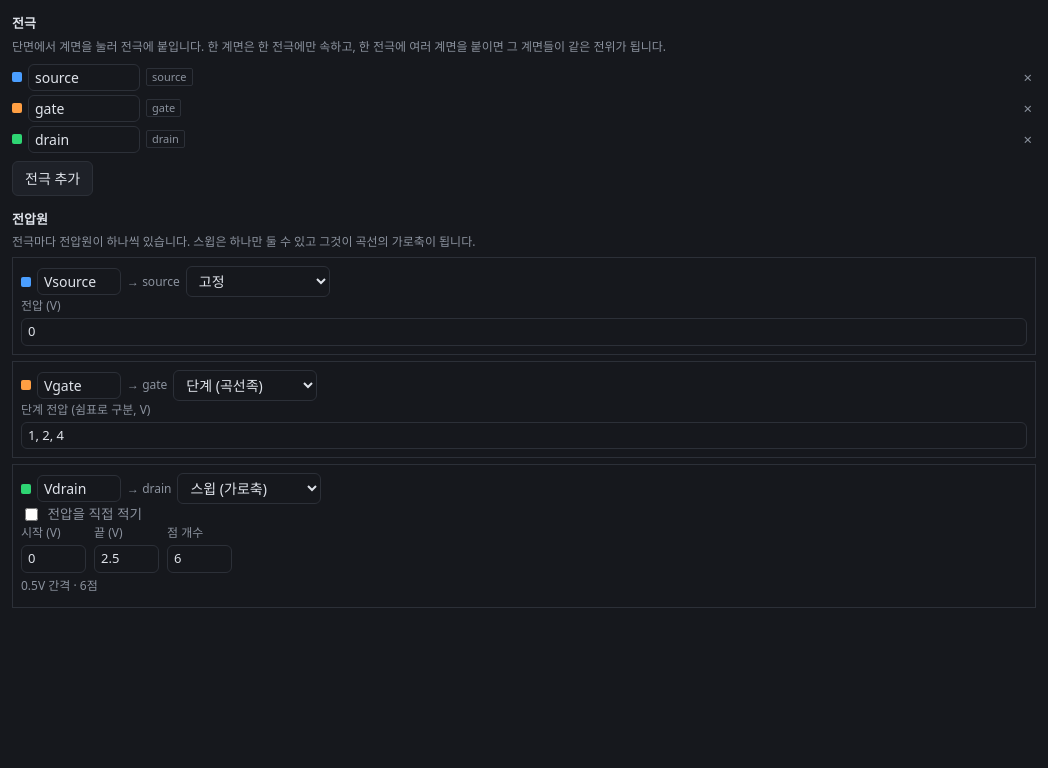
it: 전극 이름 고치기 › 이미 있는 이름으로는 바뀌지 않는다
The image size is (1048, 768).
Replace the text in the field named "전극 1 이름" with "gate" at [84, 77], box [28, 64, 140, 90]
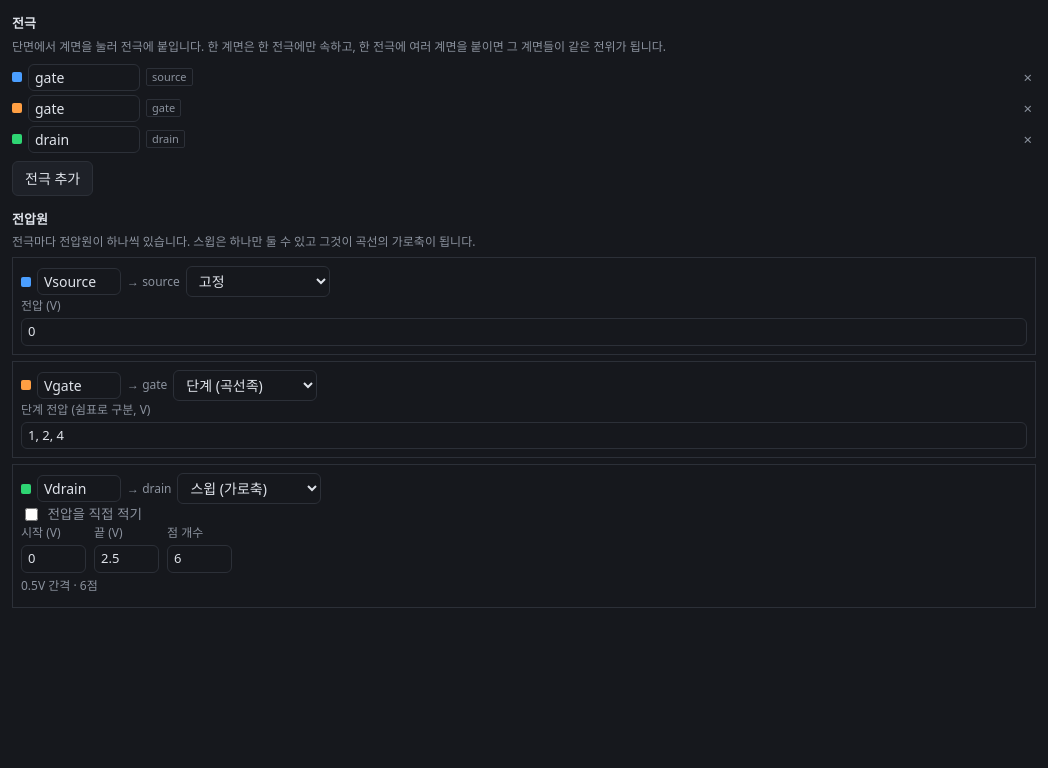
Press Tab
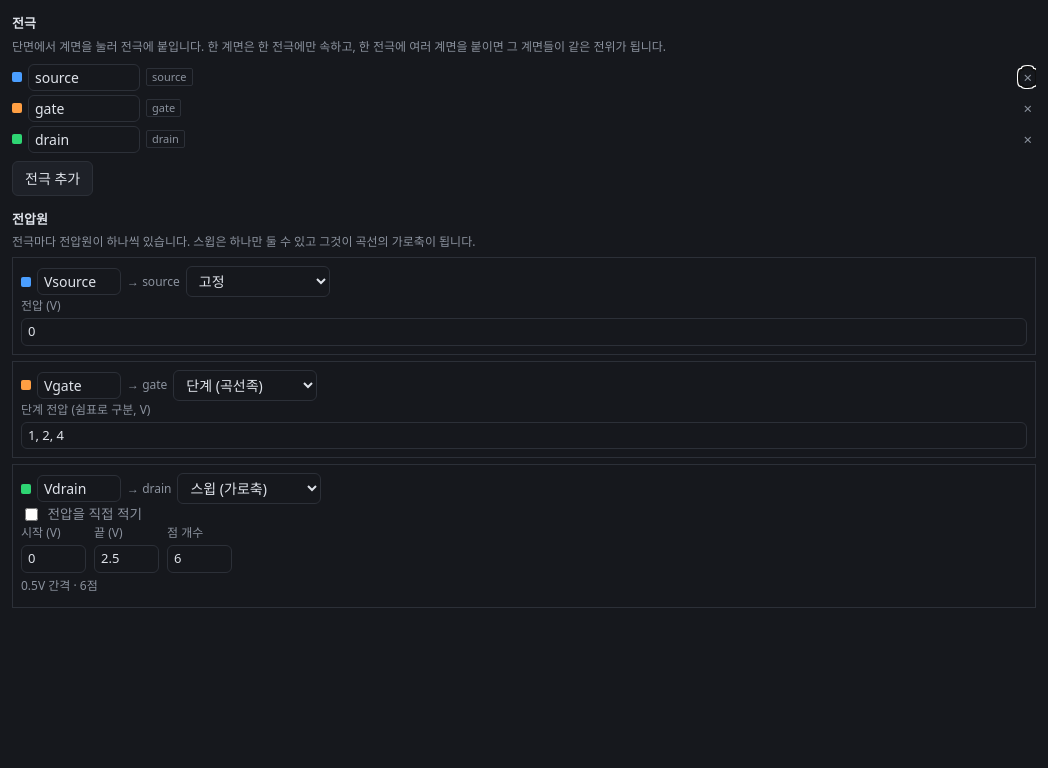
Expected: the field named "전극 1 이름" holds "source", [28, 64, 140, 90]
